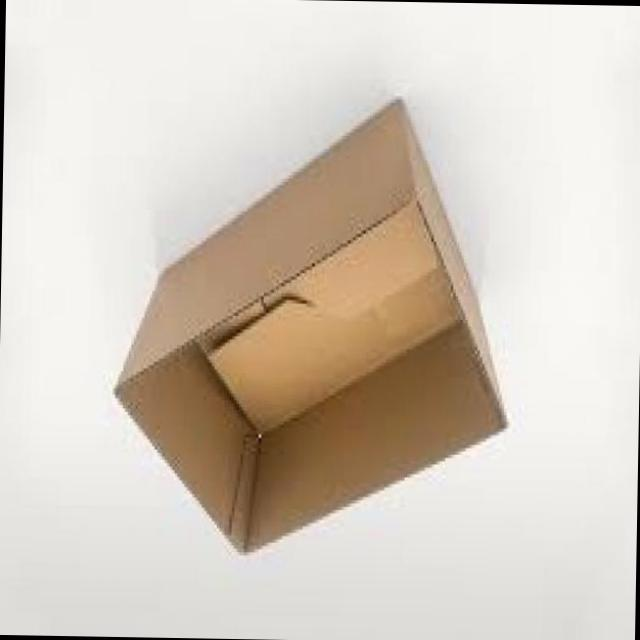cardboard paper: (117, 106, 506, 553)
